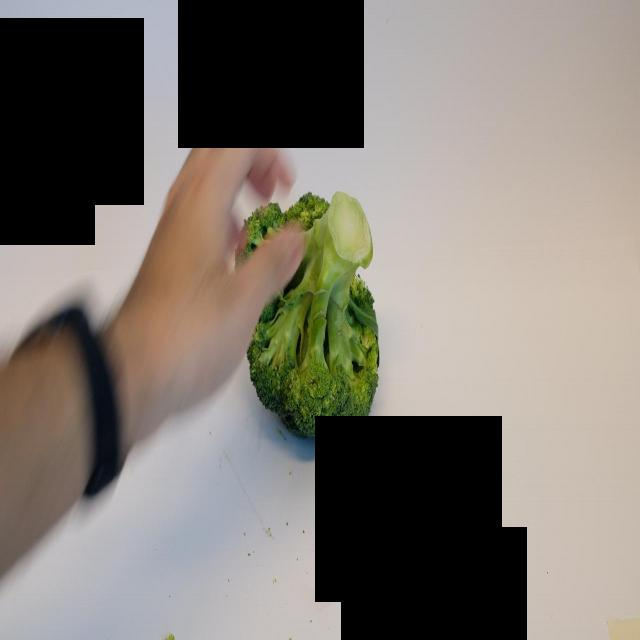broccoli: (235, 169, 382, 457)
